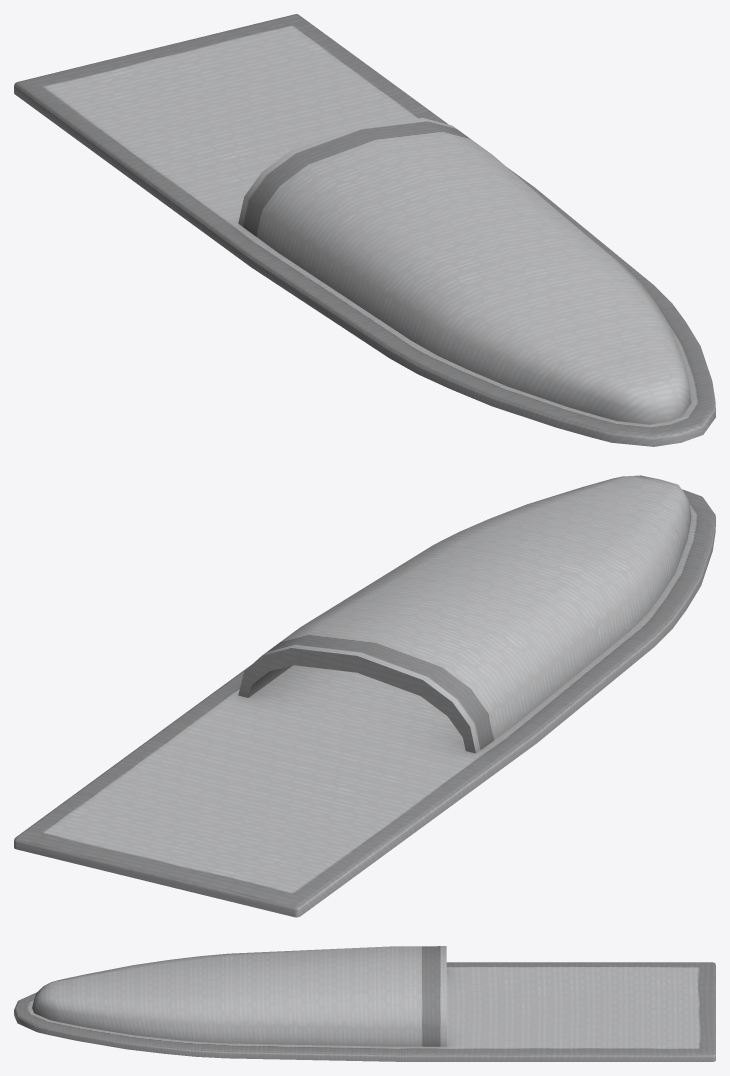
The model's file is MeleePulseBlade03_2.FBX.
The picture shows the model from 3 angles, top to bottom: view 1: azimuth 30°, elevation 25°; view 2: azimuth 150°, elevation 25°; view 3: azimuth 270°, elevation 25°; orthographic projection. The views are drawn at different scales.
Parts seen in each view (by area): view 1: MeleePulseBlade03_2; view 2: MeleePulseBlade03_2; view 3: MeleePulseBlade03_2.
Part boxes in pixels (box(x1,y1,x2,y2)): MeleePulseBlade03_2: box(14, 14, 715, 446); MeleePulseBlade03_2: box(14, 475, 715, 917); MeleePulseBlade03_2: box(14, 946, 715, 1061).
Size of what is drawn, in the model's own units: 0.1277 by 0.0341 by 0.4072.
